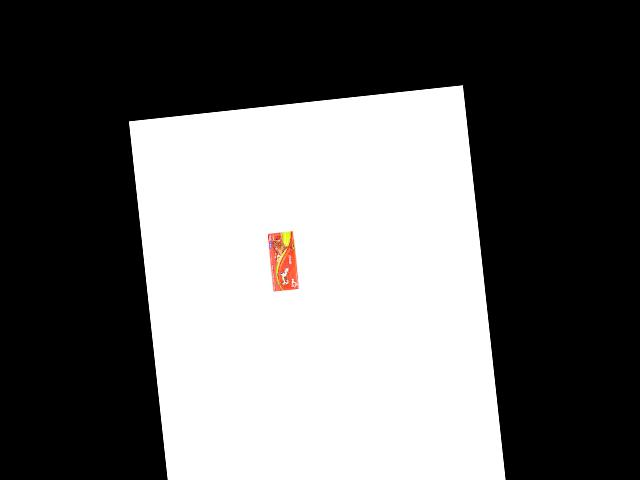chocolate: (261, 229, 301, 296)
